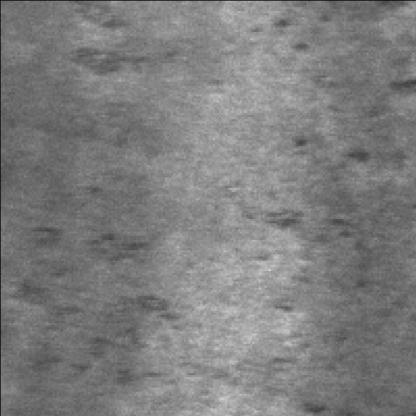rolled-in_scale: (252, 2, 406, 316), (16, 225, 172, 393), (34, 11, 168, 86)
